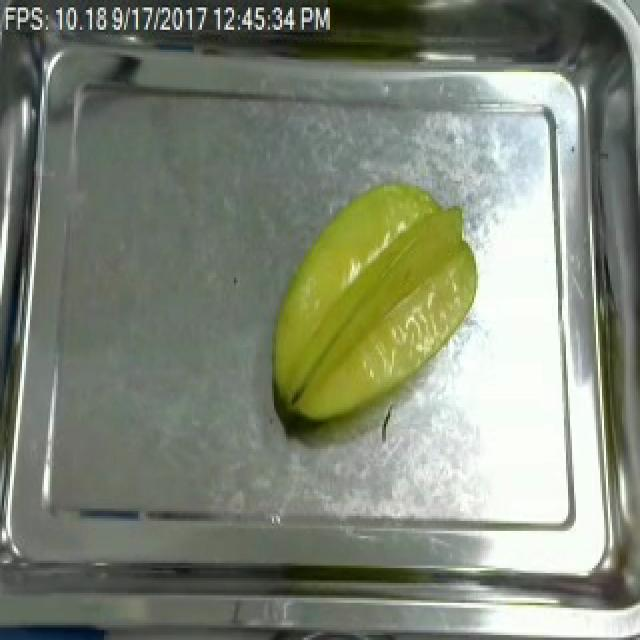fruit: (256, 174, 488, 436)
